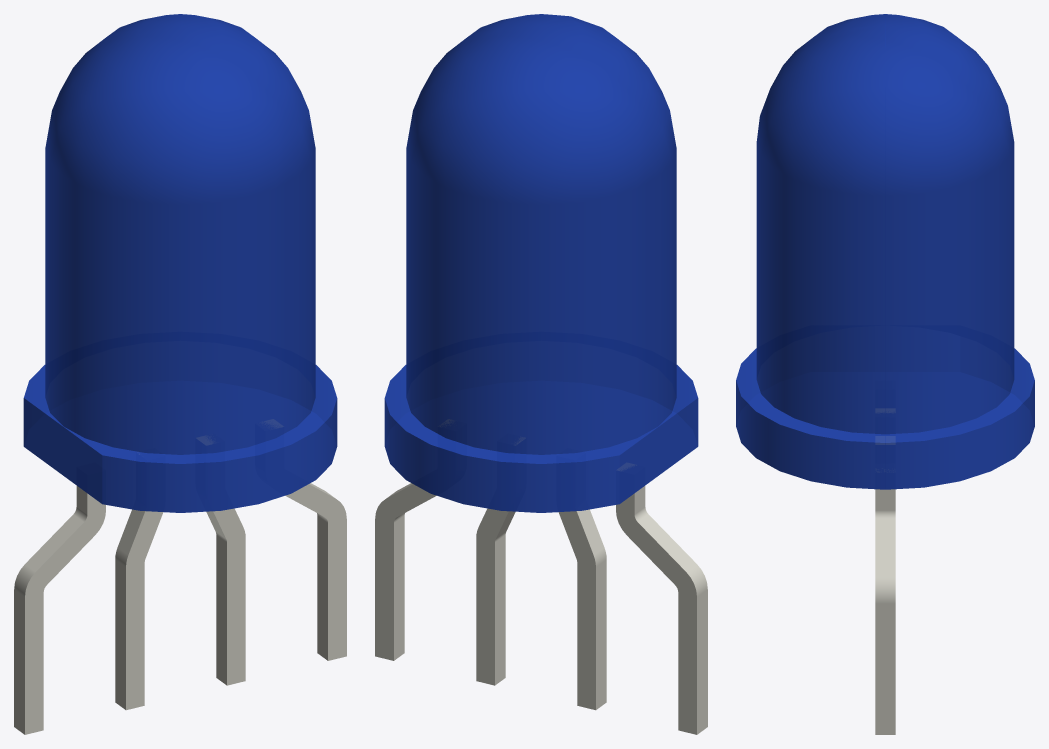
The model's file is LED_THT__LED_D5.0mm-4_RGB_Wide_Pins.glb.
3 views of the same model, side by side, from view 1: azimuth 30°, elevation 25°; view 2: azimuth 150°, elevation 25°; view 3: azimuth 270°, elevation 25° (orthographic). The views are drawn at different scales.
Parts seen in each view (by area): view 1: LED_D5.0mm-4_RGB_Wide_Pins; view 2: LED_D5.0mm-4_RGB_Wide_Pins; view 3: LED_D5.0mm-4_RGB_Wide_Pins.
Boxes of the visible parts, x1,y1,x2,y2 form: LED_D5.0mm-4_RGB_Wide_Pins: [14, 14, 346, 734]; LED_D5.0mm-4_RGB_Wide_Pins: [375, 14, 707, 734]; LED_D5.0mm-4_RGB_Wide_Pins: [736, 14, 1034, 734].
Bounding box in the file's own units: 0.00688 × 0.0136 × 0.0058.
